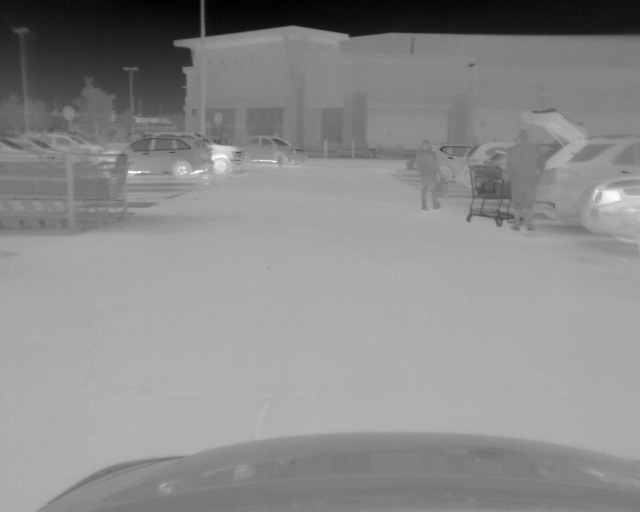car: (521, 110, 640, 219), (119, 131, 215, 178), (582, 172, 640, 246), (241, 135, 309, 166), (20, 130, 101, 155), (461, 143, 507, 182), (432, 143, 476, 180), (208, 143, 246, 176)
people: (417, 140, 444, 211)
